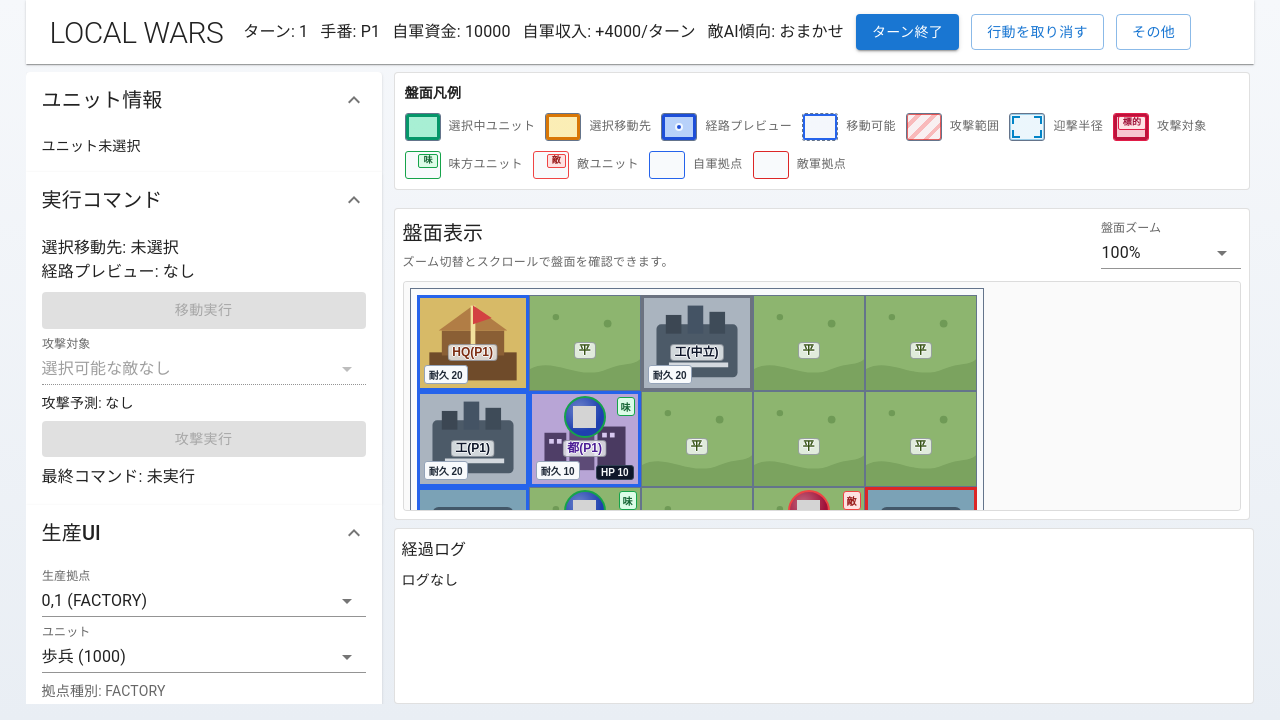
Test case: BattleScreen UIテスト: コマンド操作 › 歩兵選択時は攻撃実行と占領実行だけが表示される
Click the button with aria-label "タイル 1,1" at (585, 439), box [529,391,641,487]
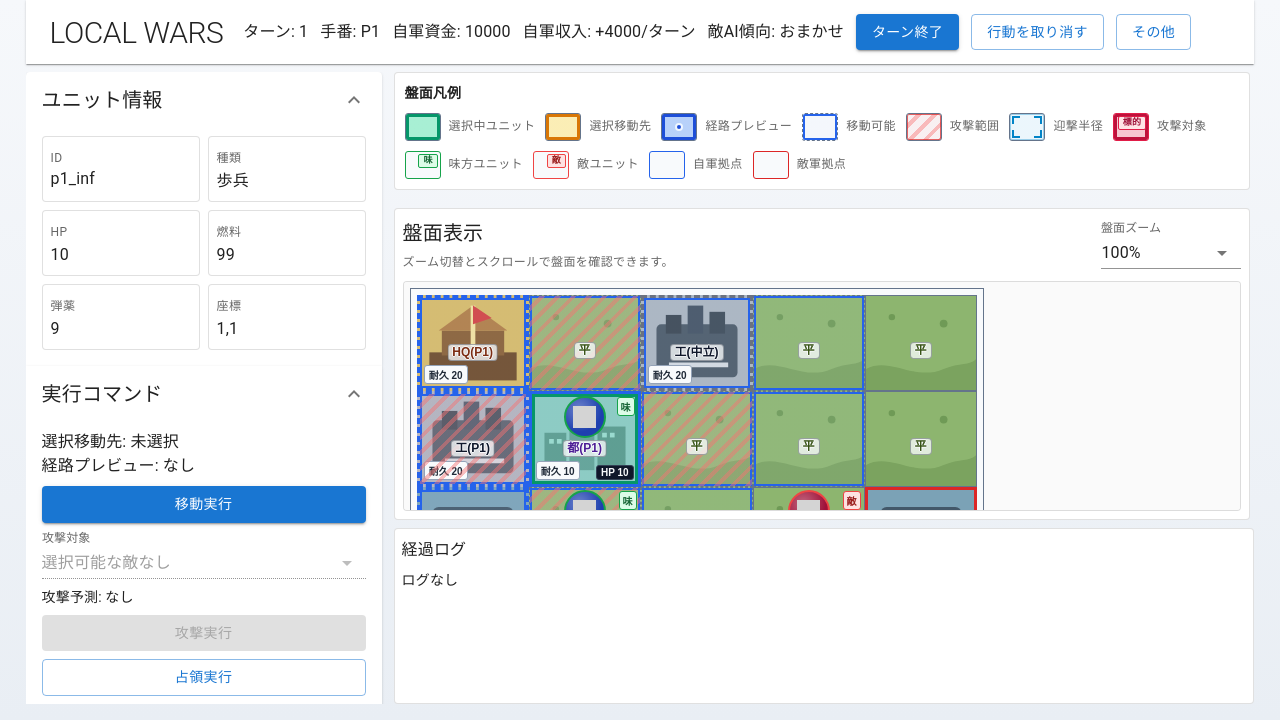
expect the button "攻撃実行" is shown: met, box [42,614,366,651]
expect the button "占領実行" is shown: met, box [42,659,366,696]
